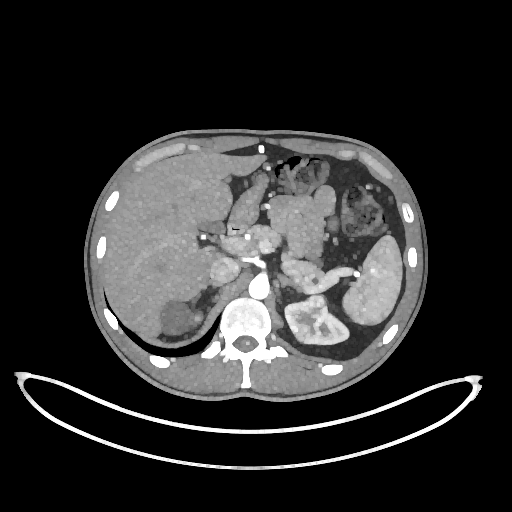Lesion: (293, 324, 309, 346)
